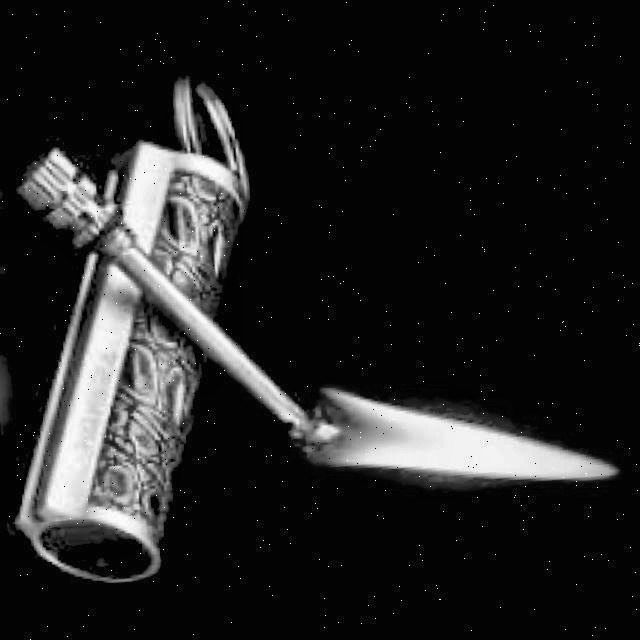Fire: (302, 365, 618, 502)
